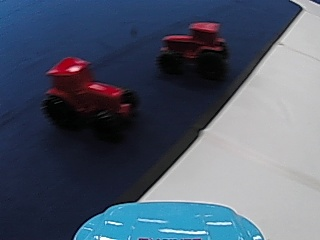tractor: (38, 54, 137, 130), (158, 18, 231, 79)
